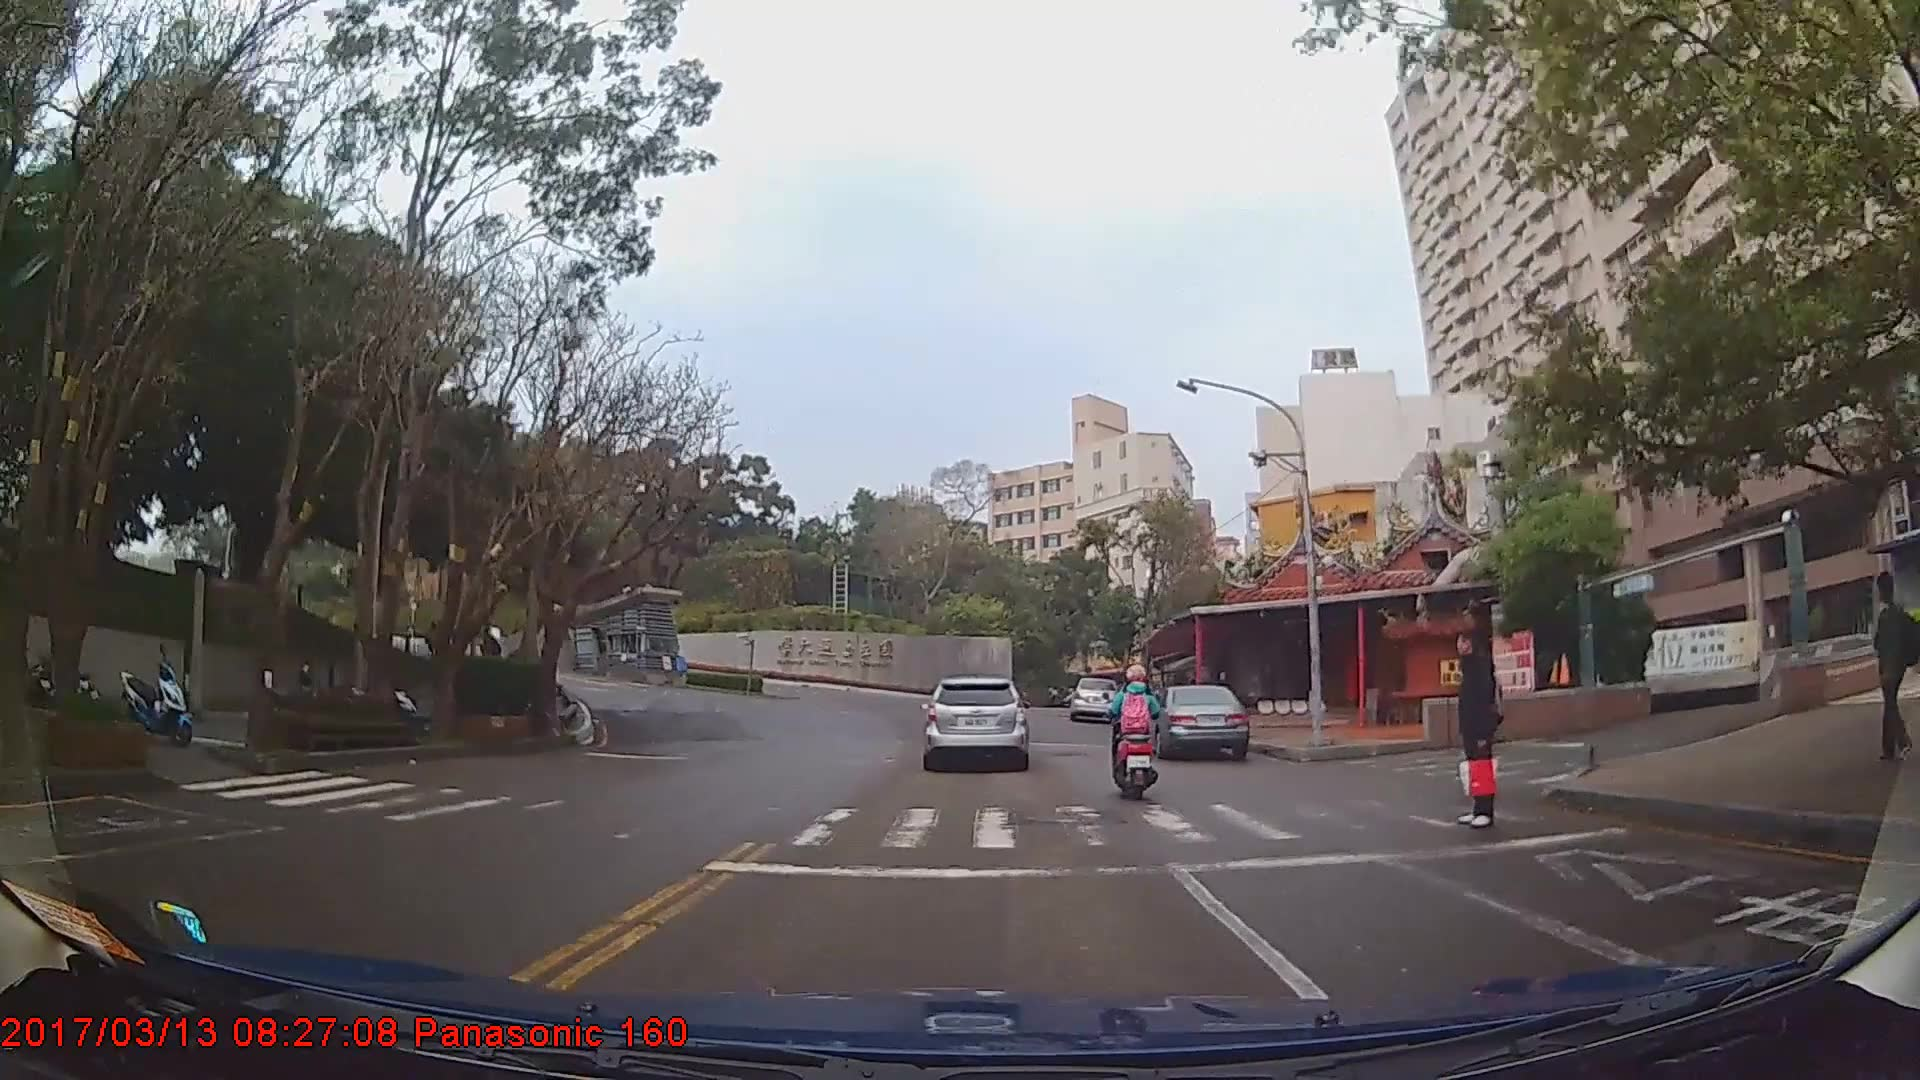pedestrian: (1865, 572, 1920, 763), (1455, 623, 1505, 828)
rider: (1107, 666, 1169, 808)
vehicle: (923, 670, 1027, 768), (1142, 683, 1247, 759), (1069, 675, 1119, 721)
